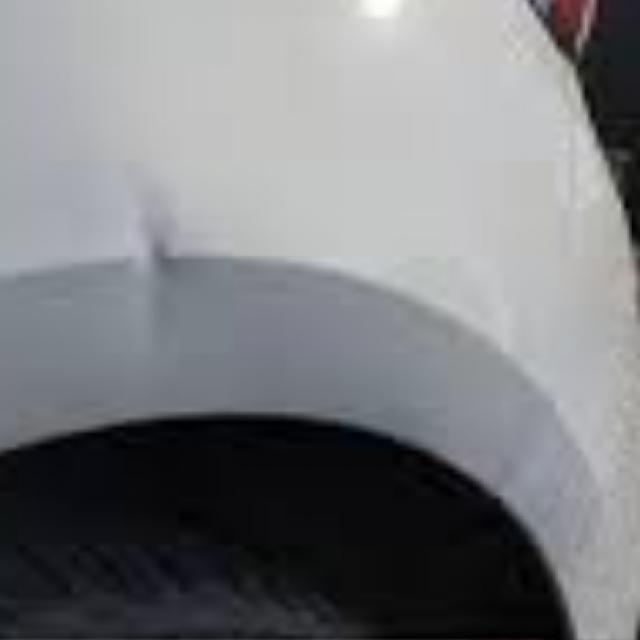dents: (82, 148, 244, 356)
